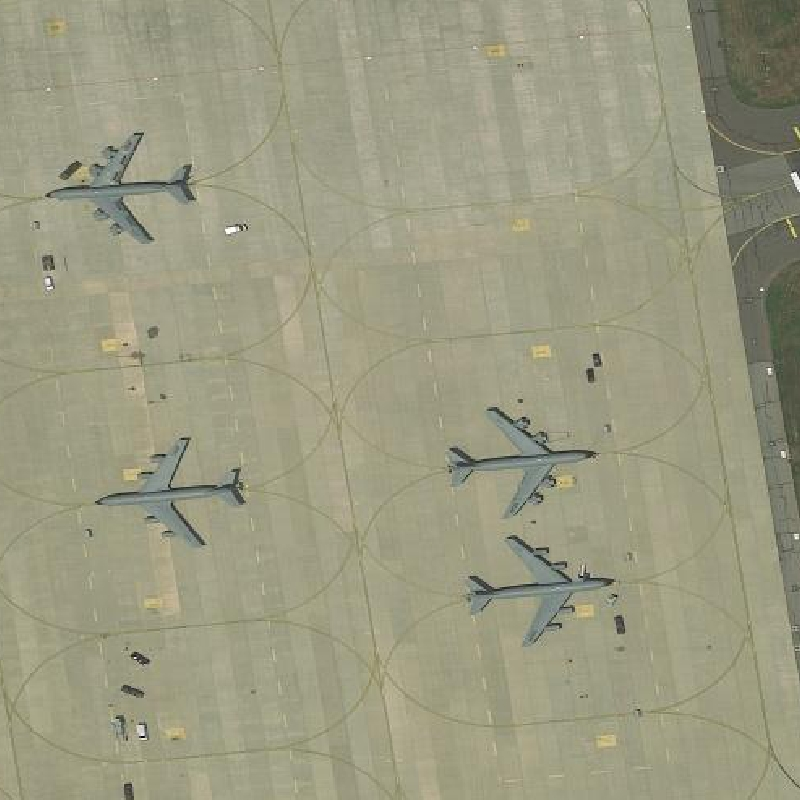A14: (85, 427, 252, 554), (444, 396, 601, 525), (461, 529, 621, 652), (41, 126, 199, 250)
